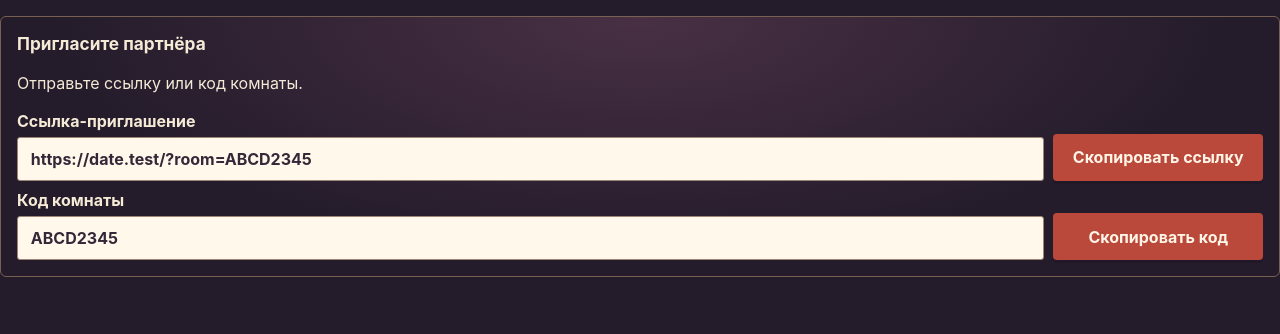
Test: InvitePanel › shows selectable invite text and a clear message when clipboard access is denied
The width and height of the screenshot is (1280, 334).
Click the button "Скопировать ссылку". click: (1158, 157)
box: [1053,134,1263,181]
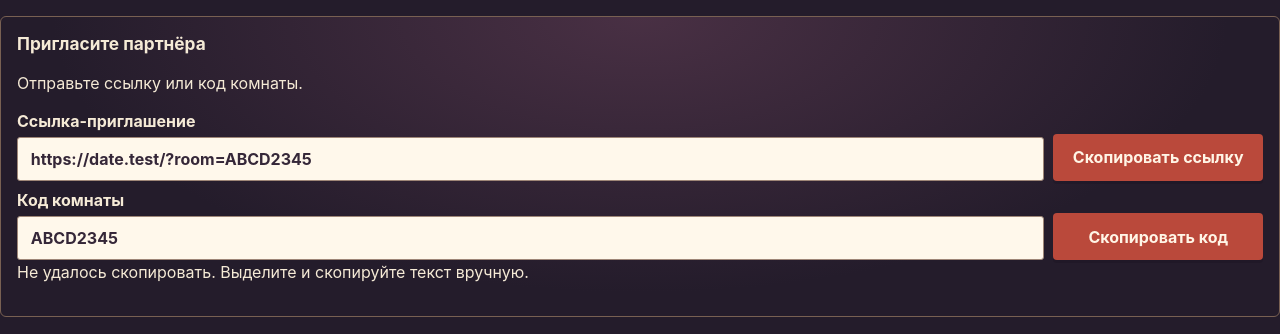
Expected: the field labelled "Ссылка-приглашение" holds "https://date.test/?room=ABCD2345", [17,137,1044,181]
Now the message shows "Не удалось скопировать", box [17,262,529,282]
